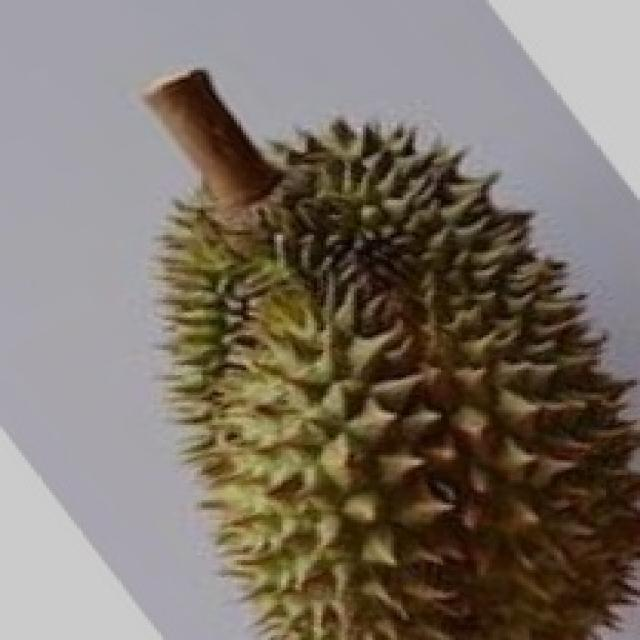fruit: (107, 257, 455, 640)
